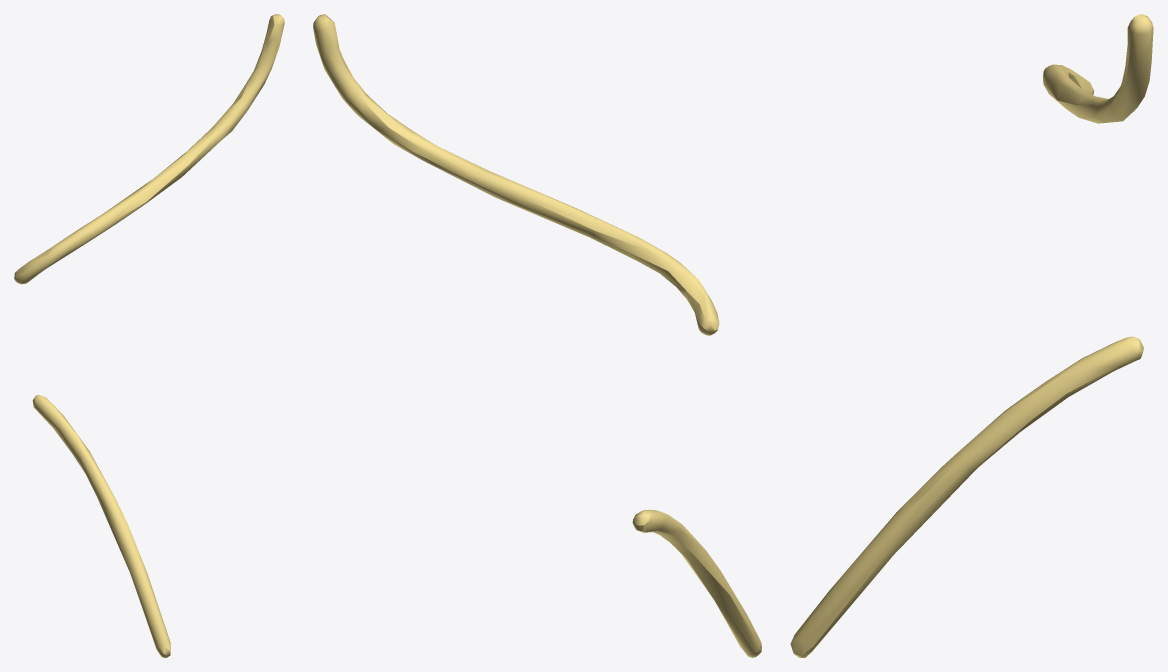
File: fma53072_fj3895.glb
The picture shows the model from 3 angles, left to right: view 1: azimuth 30°, elevation 25°; view 2: azimuth 150°, elevation 25°; view 3: azimuth 270°, elevation 25°; orthographic projection. The views are drawn at different scales.
Visible parts, largest first — view 1: FMA53072_FJ3895; view 2: FMA53072_FJ3895; view 3: FMA53072_FJ3895.
Part boxes in pixels (<box>): FMA53072_FJ3895: <box>14,14,284,657</box>; FMA53072_FJ3895: <box>313,14,761,657</box>; FMA53072_FJ3895: <box>790,14,1153,657</box>.
Bounding box in the file's own units: 0.0058 × 0.00988 × 0.00401.
